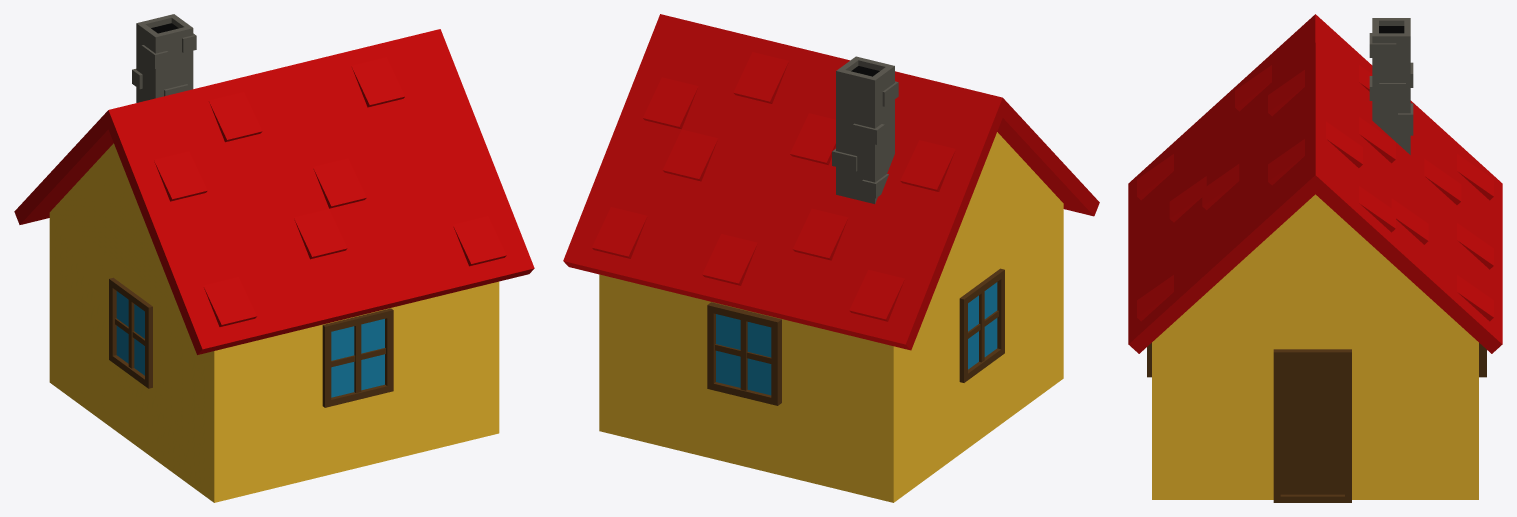
Rendered from CityHouse_02.fbx.
3 renders of one model, left to right at view 1: azimuth 30°, elevation 25°; view 2: azimuth 150°, elevation 25°; view 3: azimuth 270°, elevation 25°, orthographic. The views are drawn at different scales.
Parts seen in each view (by area): view 1: CityHouse_02; view 2: CityHouse_02; view 3: CityHouse_02.
Part boxes in pixels (<box>): CityHouse_02: <box>14,14,534,502</box>; CityHouse_02: <box>563,14,1099,502</box>; CityHouse_02: <box>1128,14,1502,502</box>.
Size of the model in its own units: 0.6333 by 0.6771 by 0.6216.
